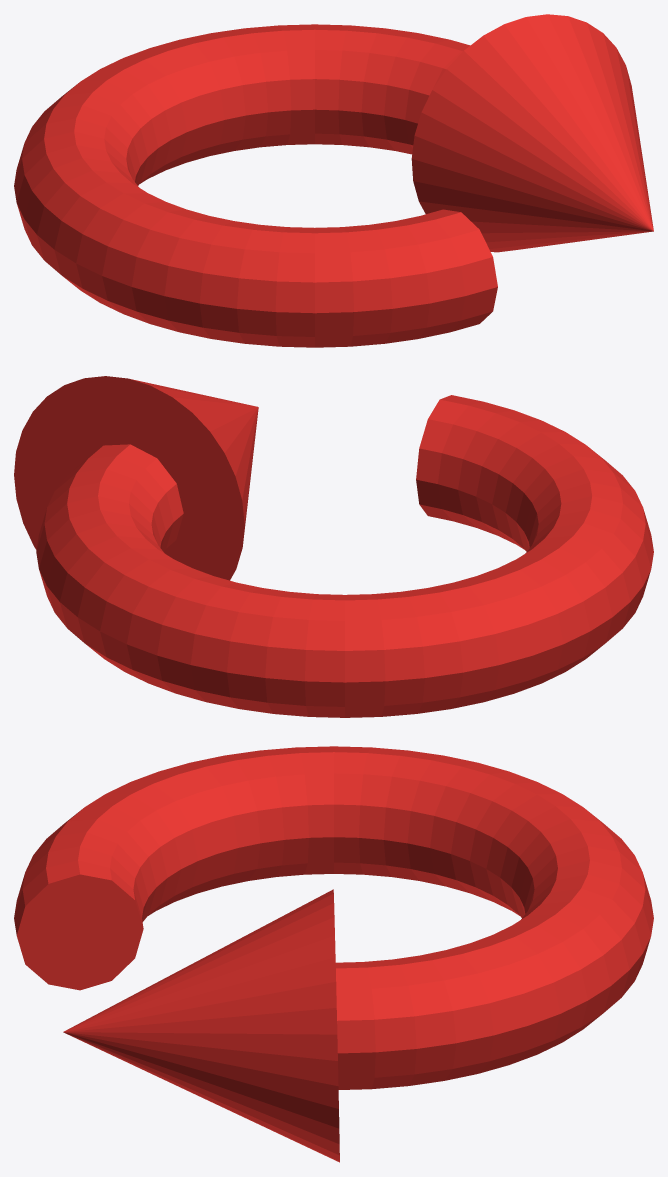
The model's file is flecha de rotacion.glb.
3 views of the same model, one above another, from view 1: azimuth 30°, elevation 25°; view 2: azimuth 150°, elevation 25°; view 3: azimuth 270°, elevation 25° (orthographic). The views are drawn at different scales.
Parts seen in each view (by area): view 1: Torus, Cone; view 2: Torus, Cone; view 3: Torus, Cone.
Part boxes in pixels (x1=…): Torus: x1=14, y1=24, x2=497, y2=347; Cone: x1=411, y1=14, x2=653, y2=252; Torus: x1=36, y1=395, x2=653, y2=717; Cone: x1=14, y1=376, x2=258, y2=580; Torus: x1=14, y1=746, x2=653, y2=1089; Cone: x1=63, y1=889, x2=339, y2=1162.
Bounding box in the file's own units: 0.841 × 0.3229 × 0.7544.
